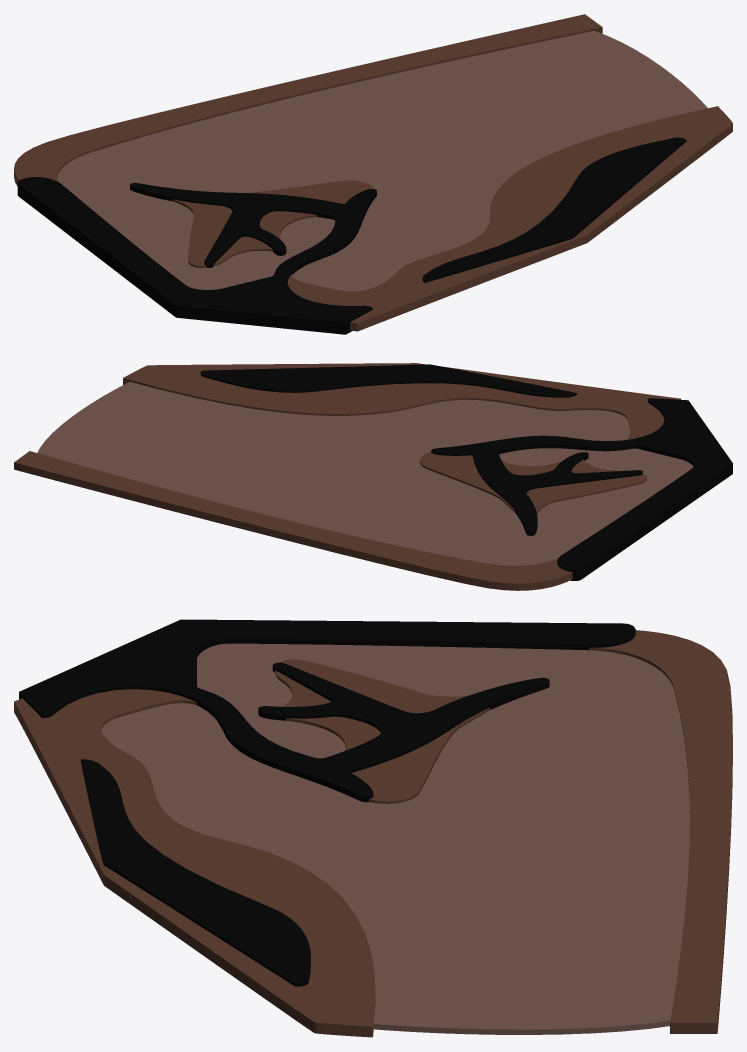
File: emoji_u1f91b_1f3ff.glb
3 renders of one model, top to bottom at view 1: azimuth 30°, elevation 25°; view 2: azimuth 150°, elevation 25°; view 3: azimuth 270°, elevation 25°, orthographic. The views are drawn at different scales.
Parts seen in each view (by area): view 1: emoji_u1f91b_1f3ff; view 2: emoji_u1f91b_1f3ff; view 3: emoji_u1f91b_1f3ff.
Boxes of the visible parts, x1,y1,x2,y2 form: emoji_u1f91b_1f3ff: (14,14,732,334); emoji_u1f91b_1f3ff: (14,363,732,590); emoji_u1f91b_1f3ff: (14,619,732,1037).
Size of the model in its own units: 0.0318 by 0.0006 by 0.0239.
